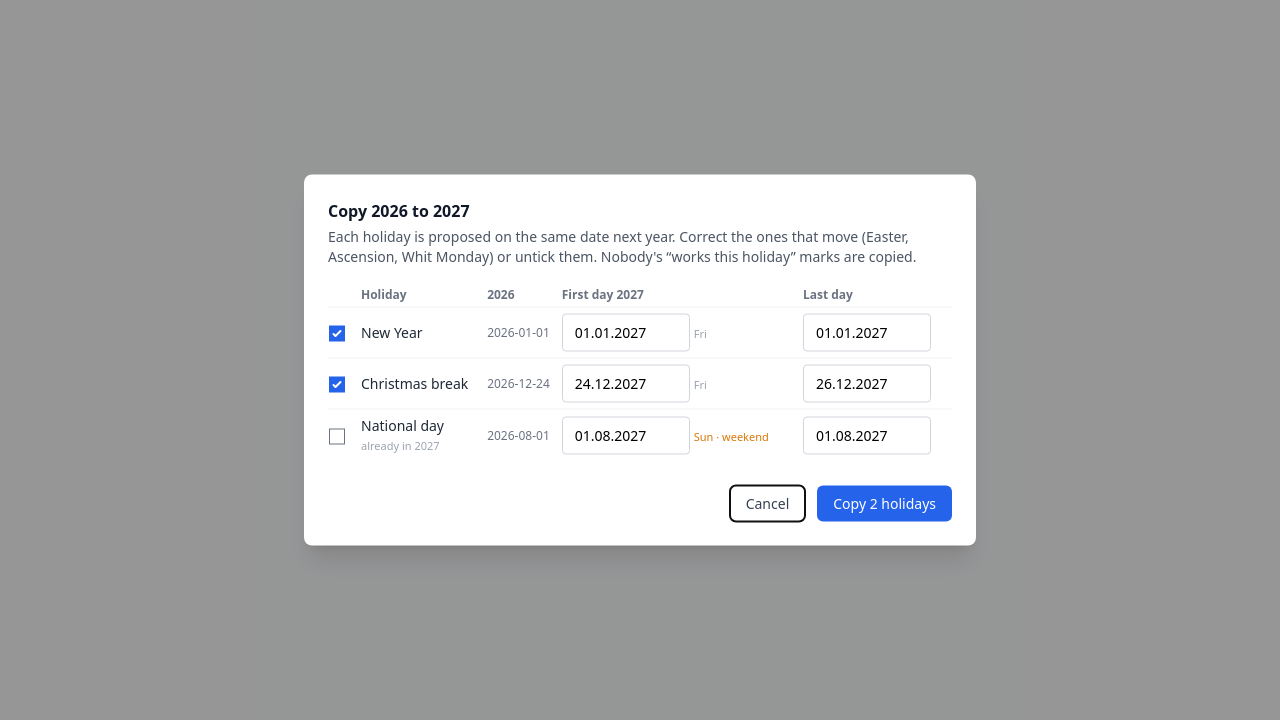
Scenario: CopyYearDialog › says "holiday" for one and disables the copy when nothing is ticked
Click the checkbox named "Copy New Year" at (337, 334), box [329, 326, 345, 342]
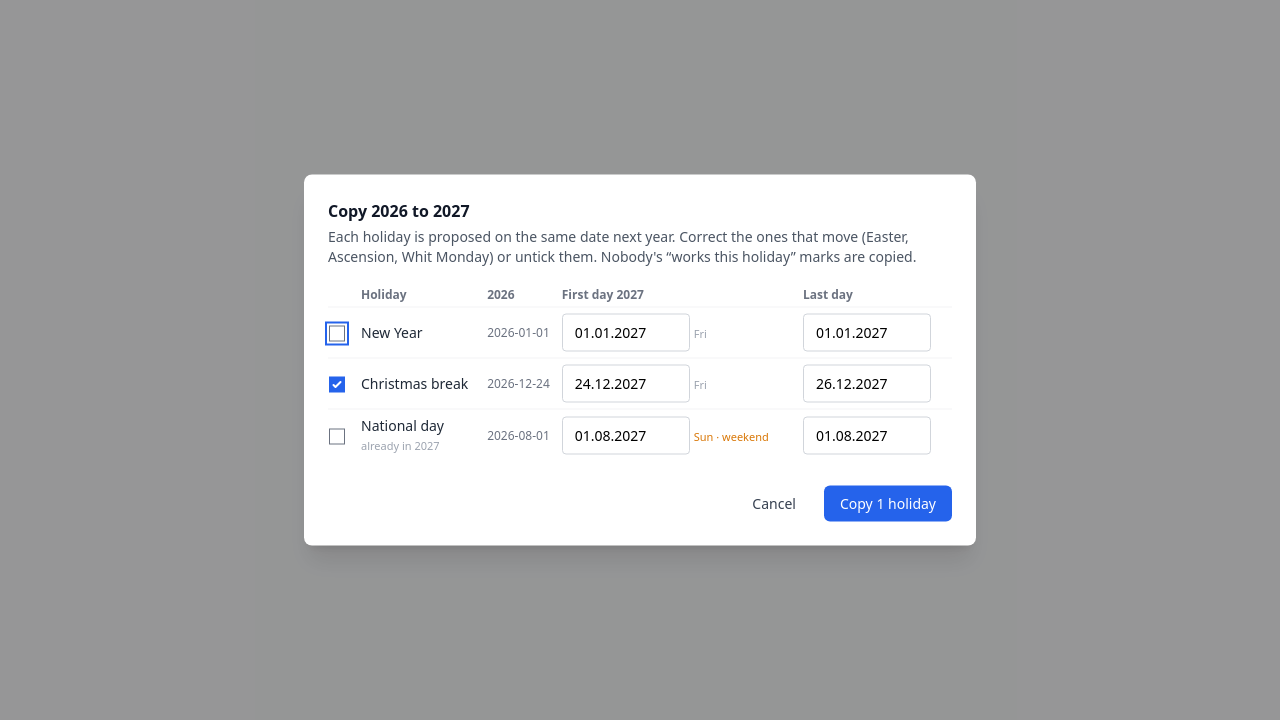
Expected: the button "Copy 1 holiday" is enabled, [824, 486, 952, 522]
Click the checkbox named "Copy Christmas break" at (337, 385), box [329, 377, 345, 393]
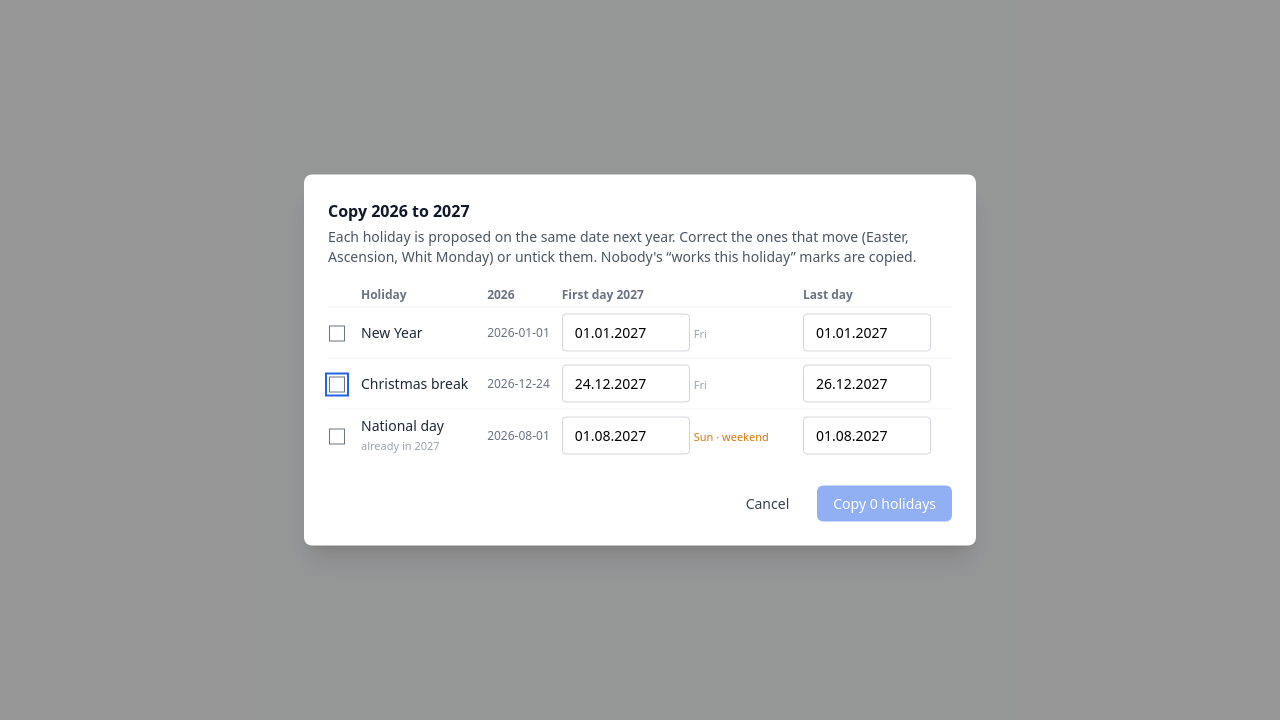
Result: the button "Copy 0 holidays" is disabled at [817, 486, 952, 522]
